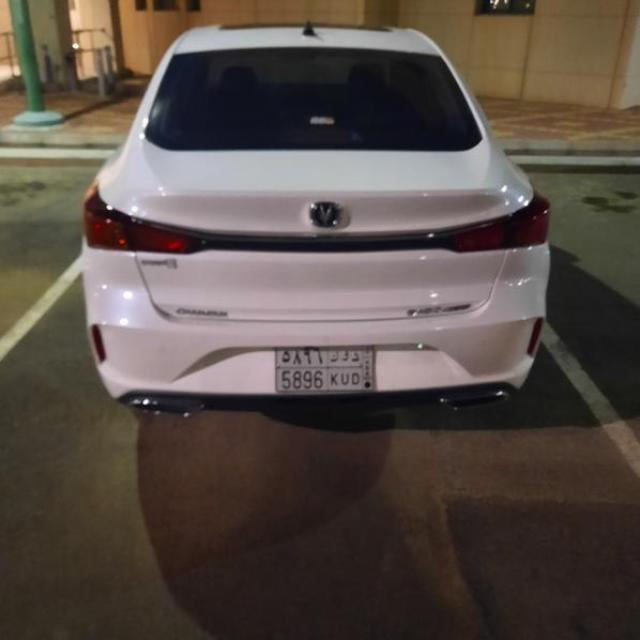license_plate: (276, 348, 374, 390)
